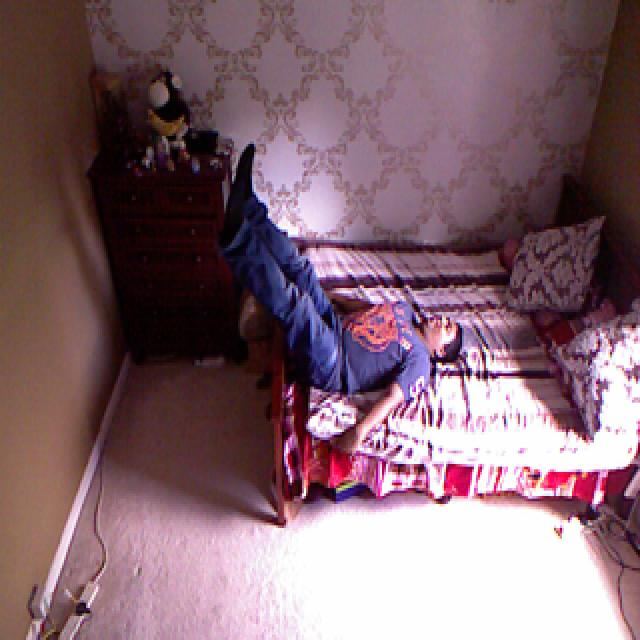lying: (207, 148, 476, 449)
